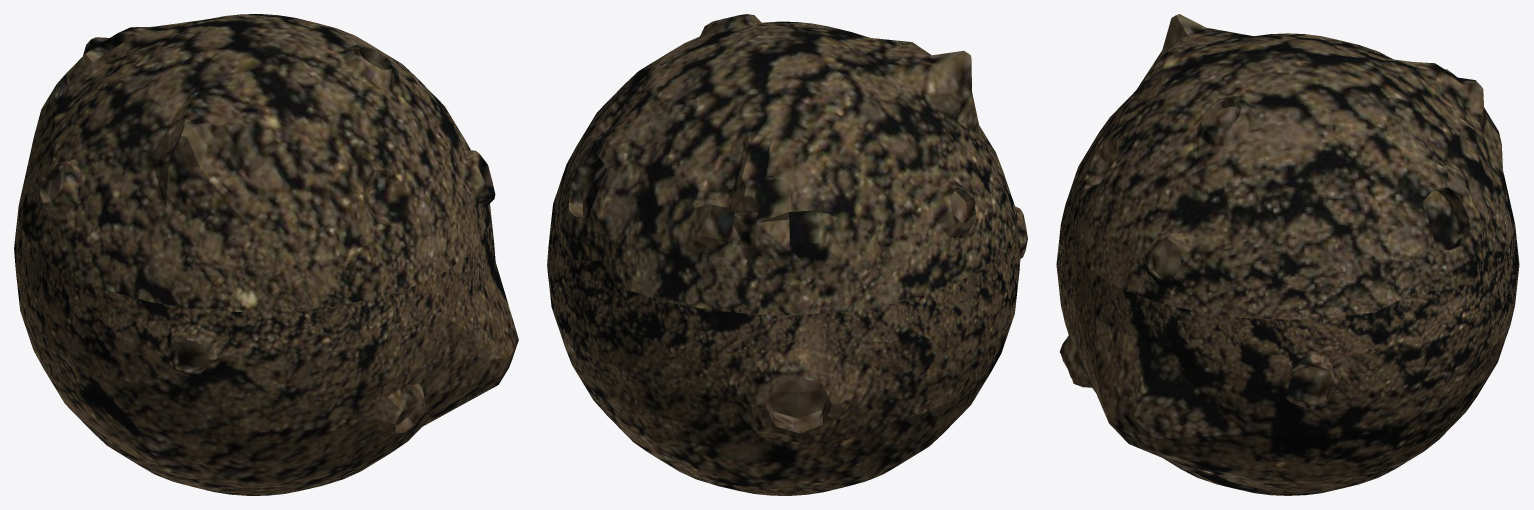
File: earth_planet.obj
3 views of the same model, side by side, from view 1: azimuth 30°, elevation 25°; view 2: azimuth 150°, elevation 25°; view 3: azimuth 270°, elevation 25° (orthographic). The views are drawn at different scales.
Visible parts, largest first — view 1: Mesh_Sphere_Sphere_WaterFl; view 2: Mesh_Sphere_Sphere_WaterFl; view 3: Mesh_Sphere_Sphere_WaterFl.
Boxes of the visible parts, bbox=[...] form: Mesh_Sphere_Sphere_WaterFl: bbox=[14, 14, 518, 495]; Mesh_Sphere_Sphere_WaterFl: bbox=[547, 14, 1027, 495]; Mesh_Sphere_Sphere_WaterFl: bbox=[1056, 14, 1519, 495].
Bounding box in the file's own units: 2.04 × 2 × 2.
